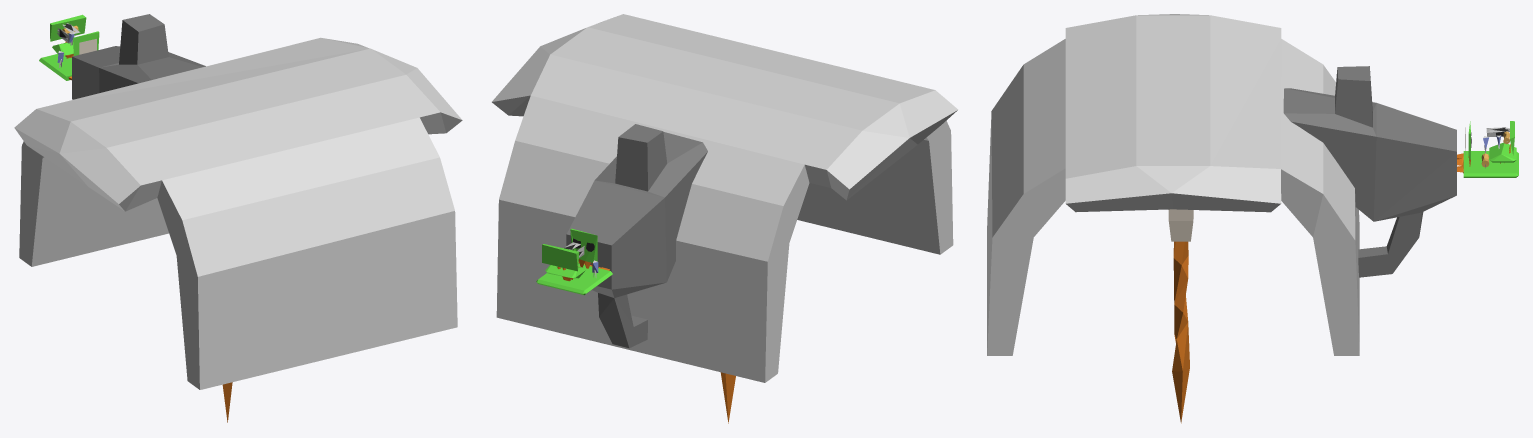
File: Miner_Item.fbx
The picture shows the model from 3 angles, left to right: view 1: azimuth 30°, elevation 25°; view 2: azimuth 150°, elevation 25°; view 3: azimuth 270°, elevation 25°; orthographic projection. The views are drawn at different scales.
Visible parts, largest first — view 1: Cube; view 2: Cube; view 3: Cube.
Part boxes in pixels (x1,y1,x2,y2): Cube: (14, 14, 462, 422); Cube: (492, 14, 958, 423); Cube: (987, 14, 1518, 423).
Size of the model in its own units: 205 by 187 by 256.
